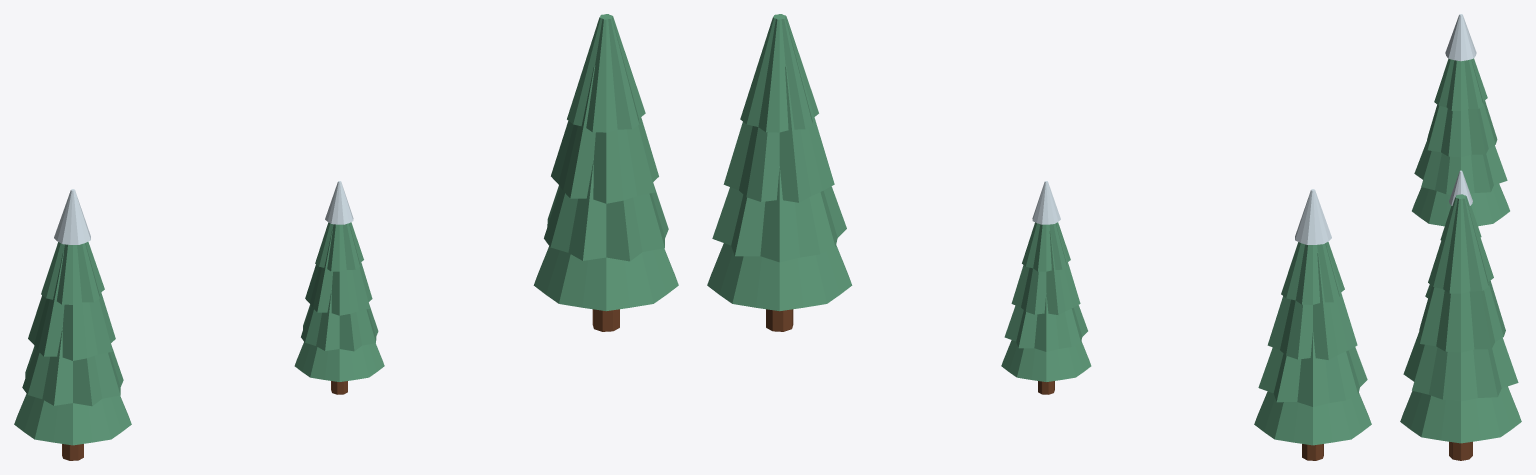
Rendered from dressing-firs.glb.
3 renders of one model, left to right at view 1: azimuth 30°, elevation 25°; view 2: azimuth 150°, elevation 25°; view 3: azimuth 270°, elevation 25°, orthographic. The views are drawn at different scales.
Visible parts, largest first — view 1: FirTreeSnowC_Branch1, FirTreeSnowC_Branch2, FirTreeSnowC_Branch0, FirTreeSnowC_Branch3, FirTreeSnowA_Branch1, FirTreeSnowA_Branch2, FirTreeSnowA_Branch0, FirTreeSnowA_Branch3, FirTreeSnowB_Branch1, FirTreeSnowB_Branch2, FirTreeSnowB_Branch0, FirTreeSnowB_Branch3 (+2 smaller); view 2: FirTreeSnowC_Branch1, FirTreeSnowC_Branch2, FirTreeSnowC_Branch0, FirTreeSnowC_Branch3, FirTreeSnowA_Branch1, FirTreeSnowA_Branch2, FirTreeSnowA_Branch0, FirTreeSnowB_Branch1, FirTreeSnowA_Branch3, FirTreeSnowB_Branch2, FirTreeSnowB_Branch0, FirTreeSnowB_Branch3 (+2 smaller); view 3: FirTreeSnowC_Branch1, FirTreeSnowC_Branch0, FirTreeSnowC_Branch2, FirTreeSnowC_Branch3, FirTreeSnowA_Branch1, FirTreeSnowA_Branch2, FirTreeSnowA_Branch0, FirTreeSnowA_Branch3, FirTreeSnowA_SnowCap, FirTreeSnowC_Trunk, FirTreeSnowB_SnowCap.
Boxes of the visible parts, box(x1,y1,x2,y2) form: FirTreeSnowC_Branch1: box(544, 159, 668, 261); FirTreeSnowC_Branch2: box(551, 65, 658, 203); FirTreeSnowC_Branch0: box(533, 246, 678, 311); FirTreeSnowC_Branch3: box(567, 14, 645, 132); FirTreeSnowA_Branch1: box(22, 326, 123, 406); FirTreeSnowA_Branch2: box(28, 251, 115, 360); FirTreeSnowA_Branch0: box(14, 393, 131, 445); FirTreeSnowA_Branch3: box(41, 242, 104, 304); FirTreeSnowB_Branch1: box(301, 288, 378, 351); FirTreeSnowB_Branch2: box(305, 230, 372, 315); FirTreeSnowB_Branch0: box(294, 342, 384, 381); FirTreeSnowB_Branch3: box(315, 222, 363, 271); FirTreeSnowC_Branch1: box(712, 166, 846, 262); FirTreeSnowC_Branch2: box(723, 60, 834, 202); FirTreeSnowC_Branch0: box(707, 243, 852, 311); FirTreeSnowC_Branch3: box(740, 14, 818, 132); FirTreeSnowA_Branch1: box(1258, 332, 1367, 406); FirTreeSnowA_Branch2: box(1267, 248, 1357, 359); FirTreeSnowA_Branch0: box(1254, 391, 1371, 445); FirTreeSnowB_Branch1: box(1004, 293, 1087, 351); FirTreeSnowA_Branch3: box(1281, 242, 1344, 304); FirTreeSnowB_Branch2: box(1011, 227, 1080, 314); FirTreeSnowB_Branch0: box(1001, 340, 1091, 381); FirTreeSnowB_Branch3: box(1022, 222, 1070, 271); FirTreeSnowC_Branch1: box(1403, 331, 1518, 401); FirTreeSnowC_Branch0: box(1400, 386, 1521, 443); FirTreeSnowC_Branch2: box(1419, 281, 1505, 352); FirTreeSnowC_Branch3: box(1428, 194, 1493, 293); FirTreeSnowA_Branch1: box(1414, 140, 1507, 194); FirTreeSnowA_Branch2: box(1427, 100, 1497, 157); FirTreeSnowA_Branch0: box(1412, 183, 1509, 226); FirTreeSnowA_Branch3: box(1434, 58, 1487, 110); FirTreeSnowA_SnowCap: box(1445, 14, 1476, 61); FirTreeSnowC_Trunk: box(1449, 441, 1472, 460); FirTreeSnowB_SnowCap: box(1449, 170, 1472, 205).
Size of the model in its own units: 19.39 by 8.87 by 3.77.
